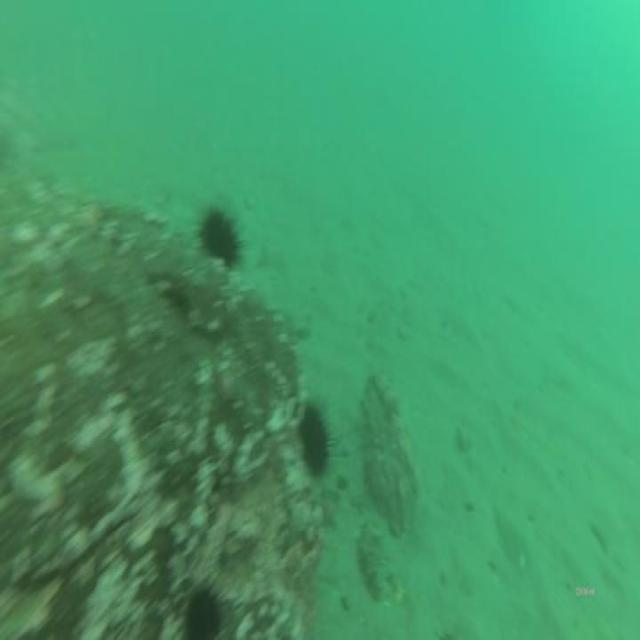echinus: (297, 402, 332, 481), (182, 577, 223, 640), (198, 209, 241, 267)
